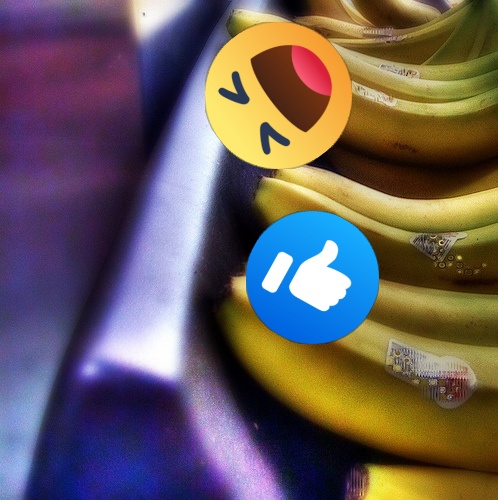haha: (205, 22, 352, 169)
like: (246, 211, 379, 344)
